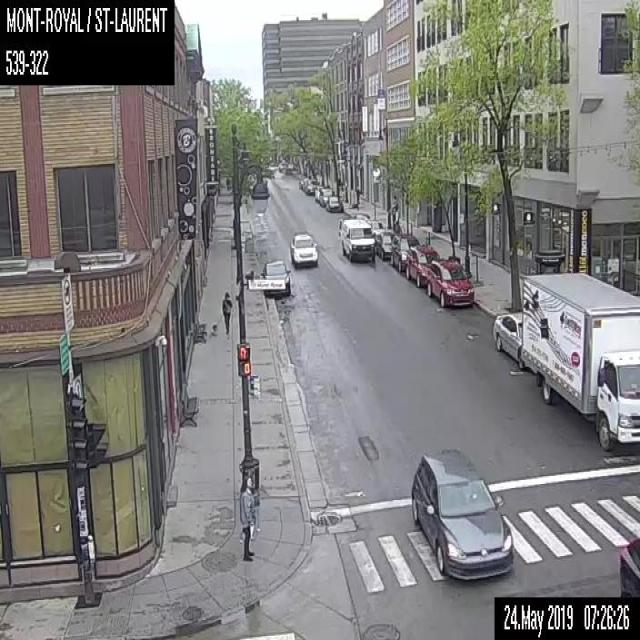pedestrian: (238, 474, 255, 562), (221, 291, 231, 333), (225, 176, 230, 191)
vehicle: (522, 270, 639, 450), (409, 449, 515, 582), (426, 256, 474, 306), (489, 305, 523, 362), (340, 217, 379, 264), (404, 242, 437, 290), (618, 533, 639, 596), (259, 256, 291, 297), (389, 233, 419, 272), (288, 232, 318, 265), (374, 227, 397, 260), (324, 194, 343, 214), (302, 178, 318, 195)
